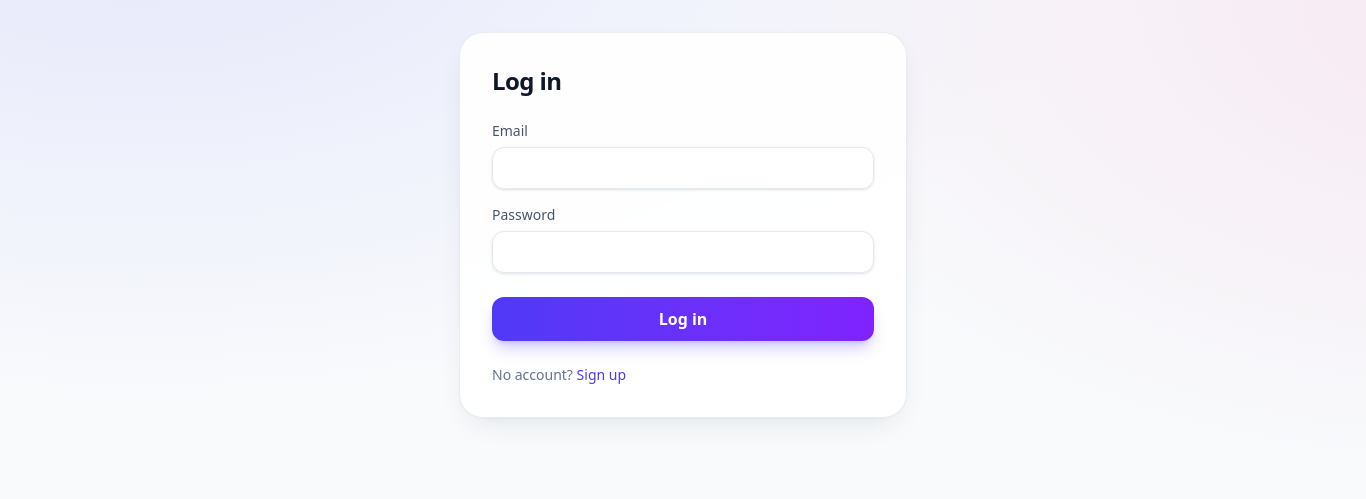
LoginForm › shows the server error and re-enables the form on failure
This screenshot has width=1366, height=499.
In the field labelled "Email": (683,168) [492, 147, 874, 189], type "demo@example.com"
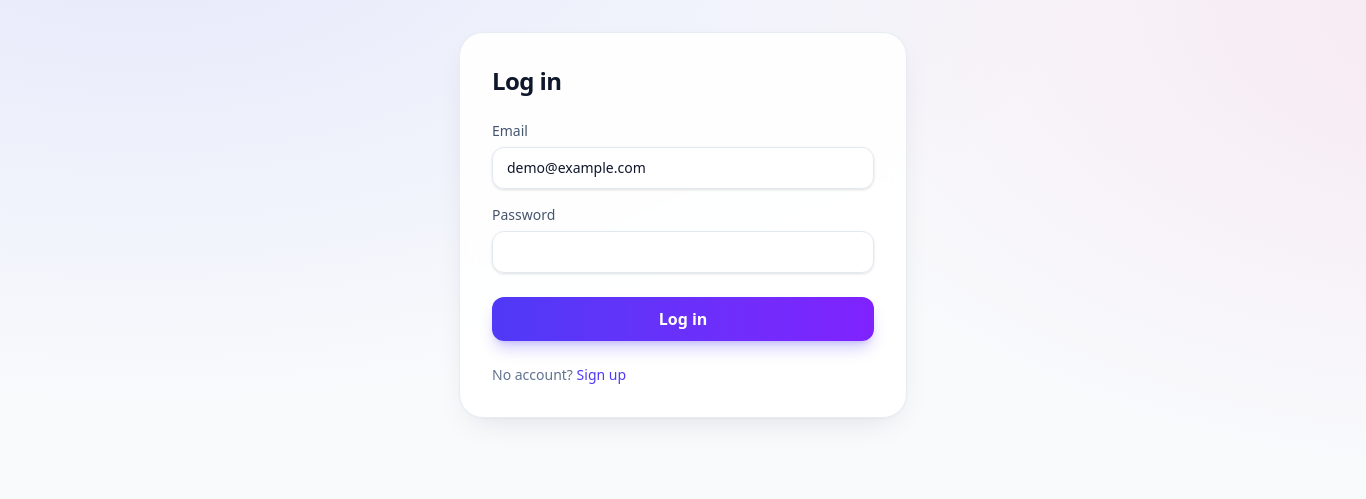
In the password field labelled "Password": (683,252) [492, 231, 874, 273], type "password123"
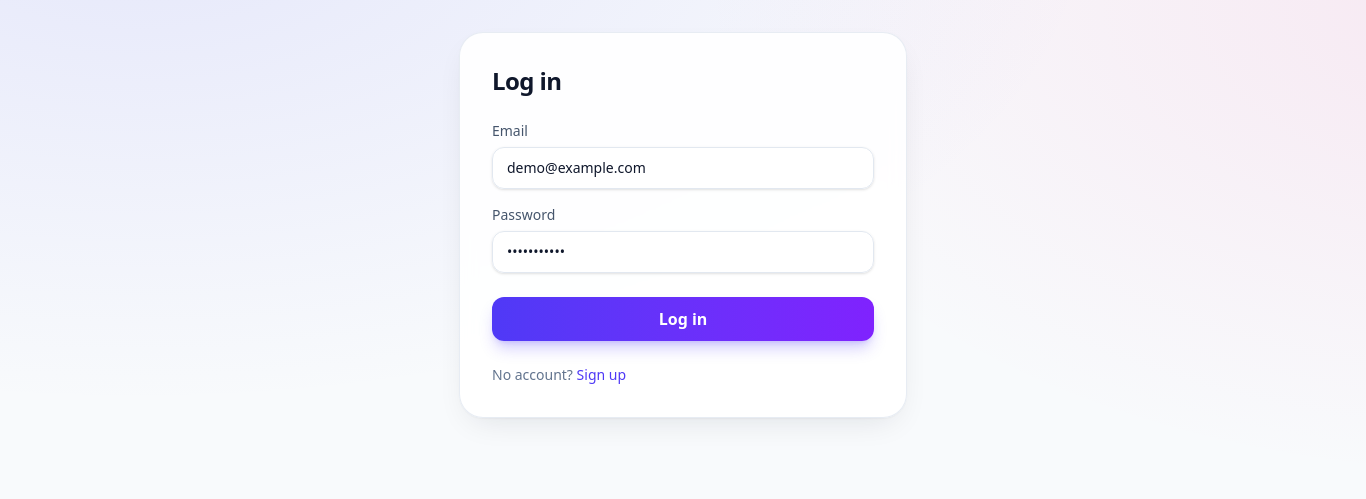
Click the button "Log in": (683,319) [492, 297, 874, 341]
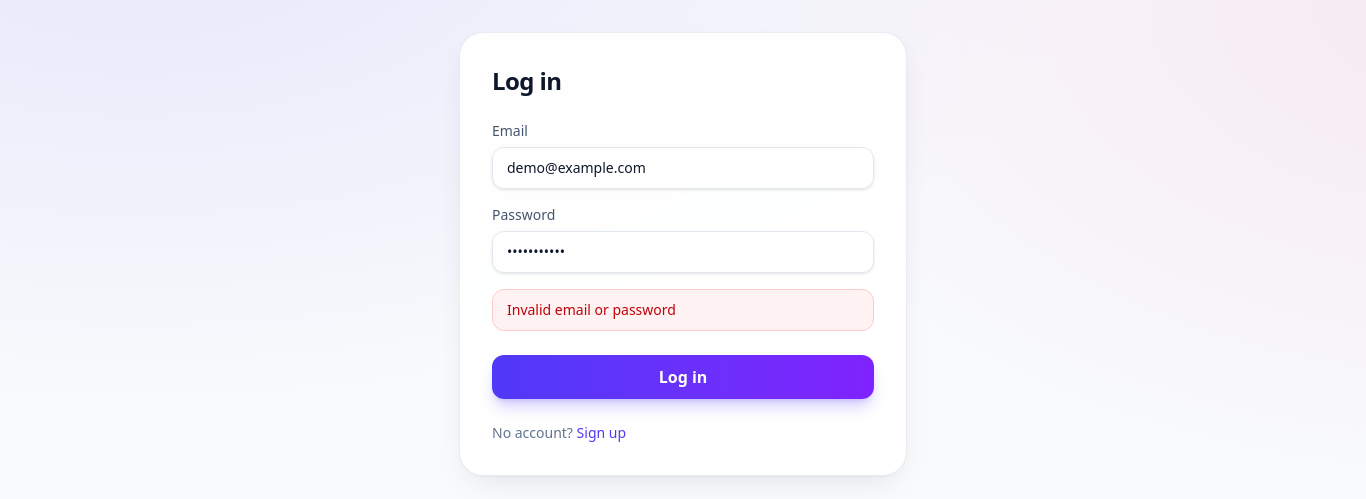
Expected: the button "Log in" is enabled, [492, 355, 874, 399]
Now the text "Invalid email or password" is shown, box [492, 289, 874, 331]
